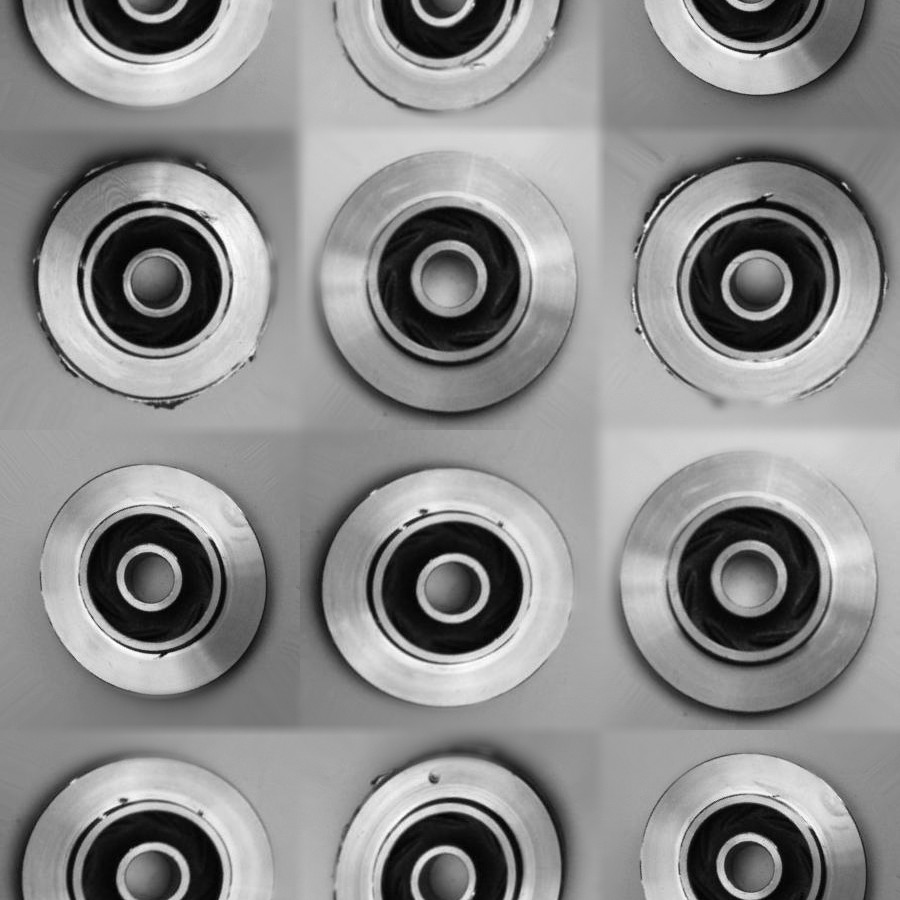pump_impeller: (310, 124, 594, 426), (609, 443, 886, 731), (626, 144, 892, 420), (22, 458, 288, 723), (308, 458, 570, 727), (22, 145, 284, 410), (10, 749, 288, 900), (613, 751, 887, 897), (312, 745, 574, 895)
